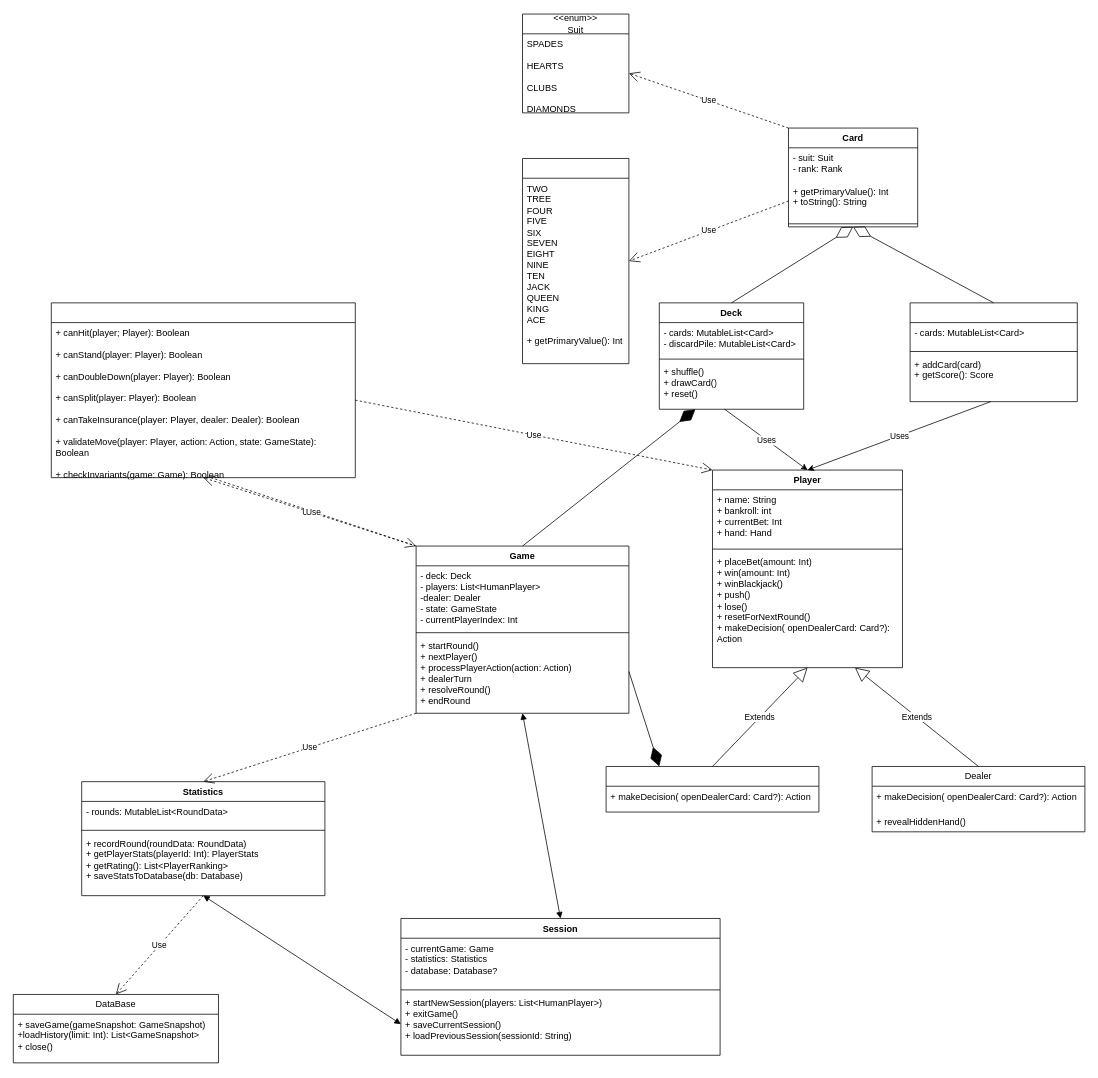
The diagram is 1098 pixels wide and 1078 high, and some of its shapes have lost their labels. Here are the shapes that lost their labels. From the top down, the box of each, then its label:
(522, 158, 629, 364): <<enum>> Rank
(909, 302, 1077, 402): Hand
(51, 302, 355, 478): GameAdmin
(605, 766, 819, 812): HumanPlayer
